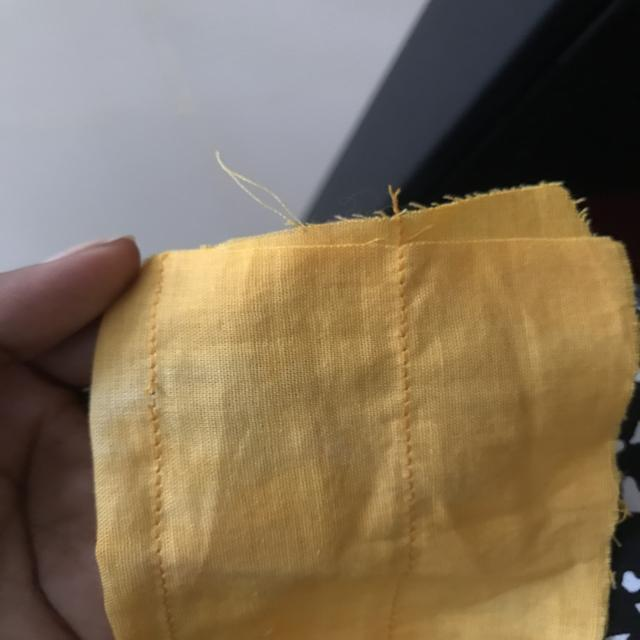broken: (123, 374, 196, 435)
